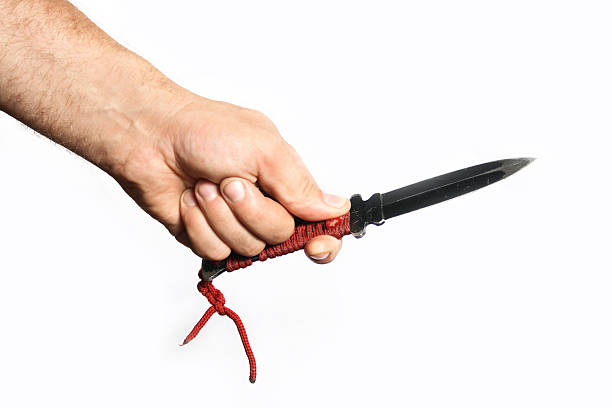knife: (197, 154, 542, 282)
